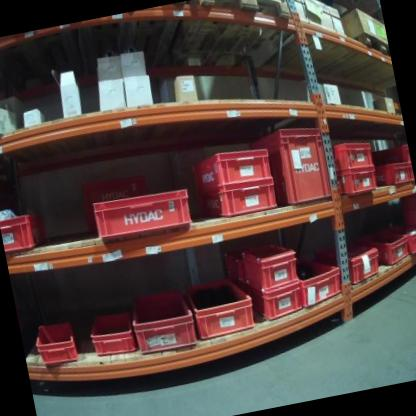pallet: (159, 0, 298, 78)
small_load_carrier: (252, 121, 332, 211), (90, 182, 195, 244), (181, 264, 257, 344), (125, 283, 200, 357), (78, 173, 157, 235), (188, 141, 274, 192), (313, 231, 384, 288), (238, 234, 304, 295), (195, 176, 280, 223), (292, 244, 347, 309), (82, 304, 136, 361), (32, 314, 80, 368), (247, 280, 303, 323), (356, 226, 412, 268), (0, 209, 52, 252), (332, 137, 375, 172), (380, 220, 416, 259), (335, 165, 377, 198), (372, 155, 411, 189), (376, 144, 411, 171), (406, 165, 415, 185)
